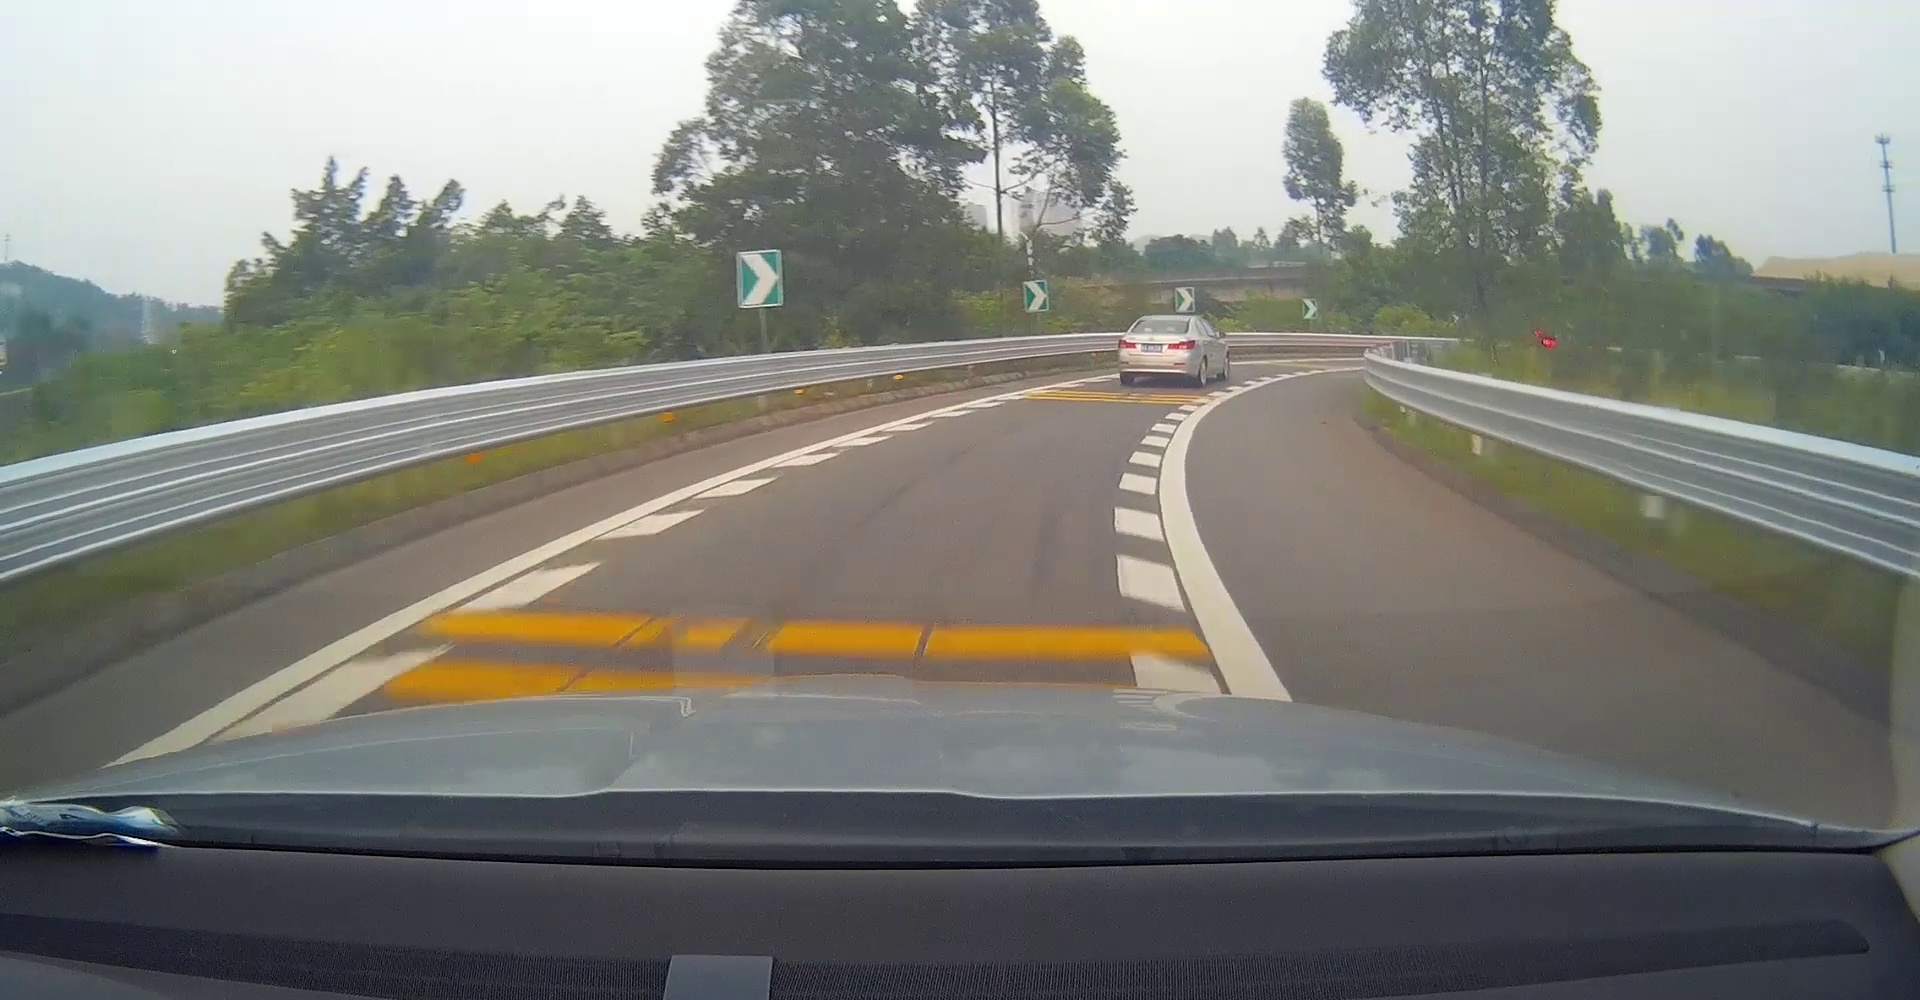L_light: (1119, 339, 1137, 348)
R_light: (1167, 339, 1195, 349)
T_light: (1153, 329, 1164, 332)
day-right: (1117, 315, 1197, 385)
